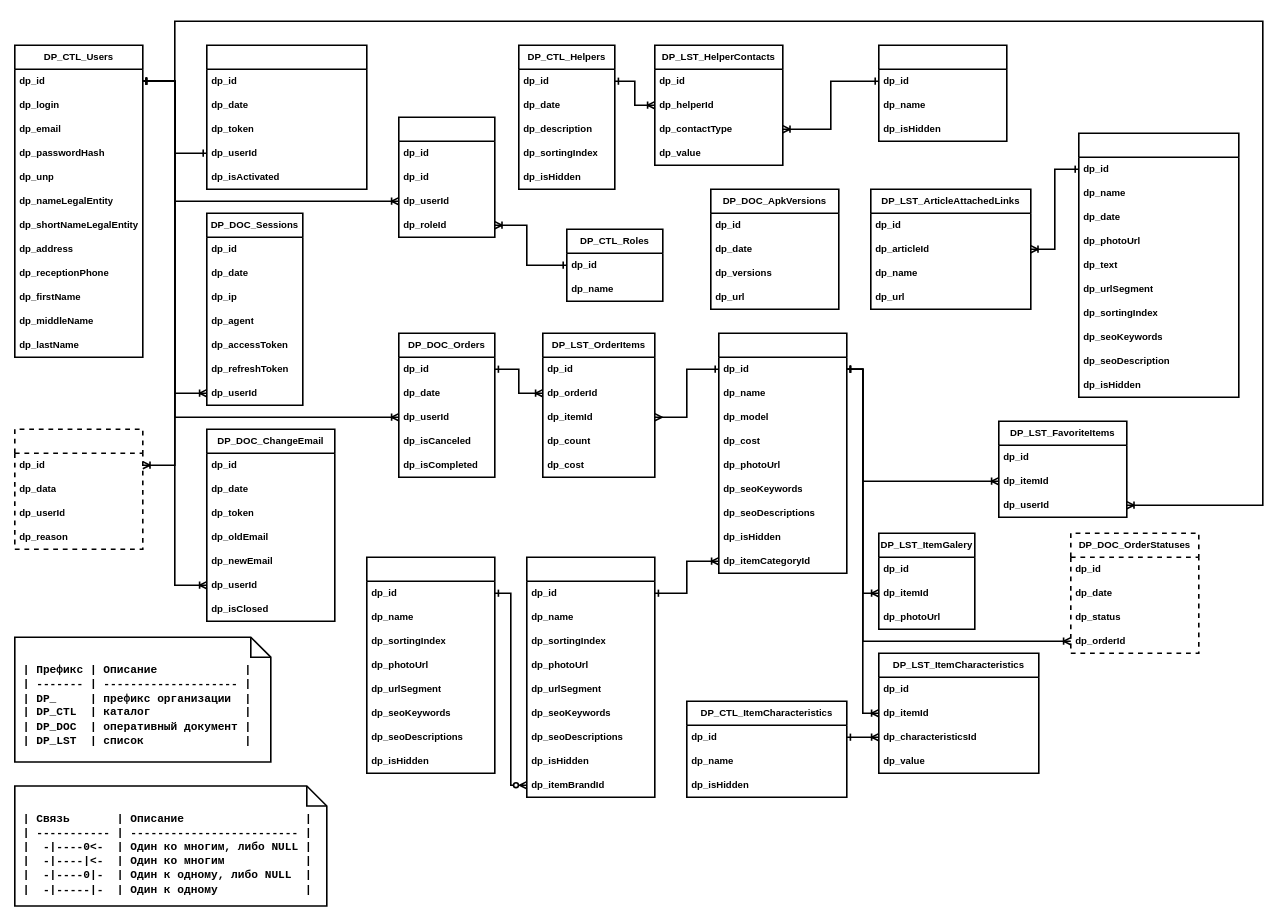
This 1284x920 diagram has some shape labels left out. Each missing label, with the box of its shape:
DP_CTL_ActivationAccount: (206, 44, 367, 190)
DP_CTL_ContactTypes: (878, 44, 1007, 142)
DP_CTL_ItemBrands: (366, 556, 495, 774)
DP_CTL_ItemCategories: (526, 556, 655, 798)
DP_CTL_Items: (718, 332, 847, 574)
DP_DOC_Articles: (1078, 132, 1239, 398)
DP_DOC_BannedUsers: (14, 428, 143, 550)
DP_LST_UserRoles: (398, 116, 495, 238)
